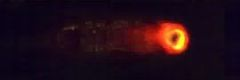keyhole: (169, 33, 179, 45)
